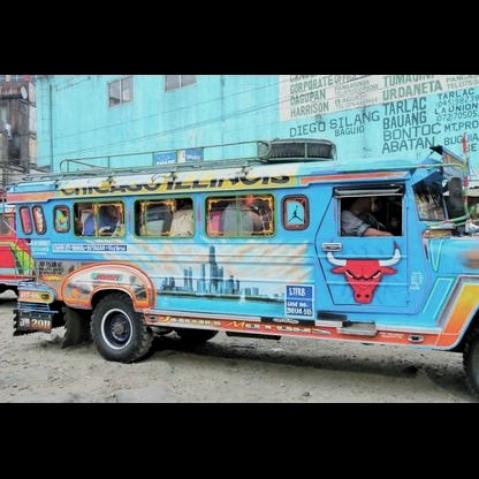jeepney: (0, 146, 479, 377)
